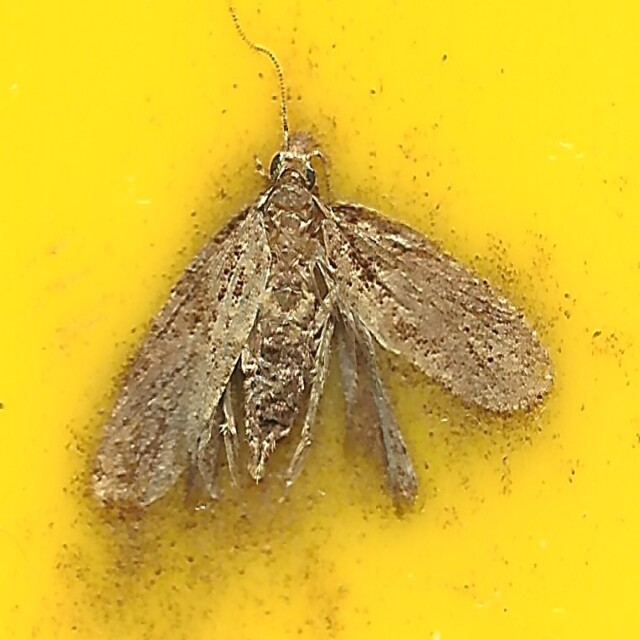Lepidoptera: (84, 122, 556, 518)
